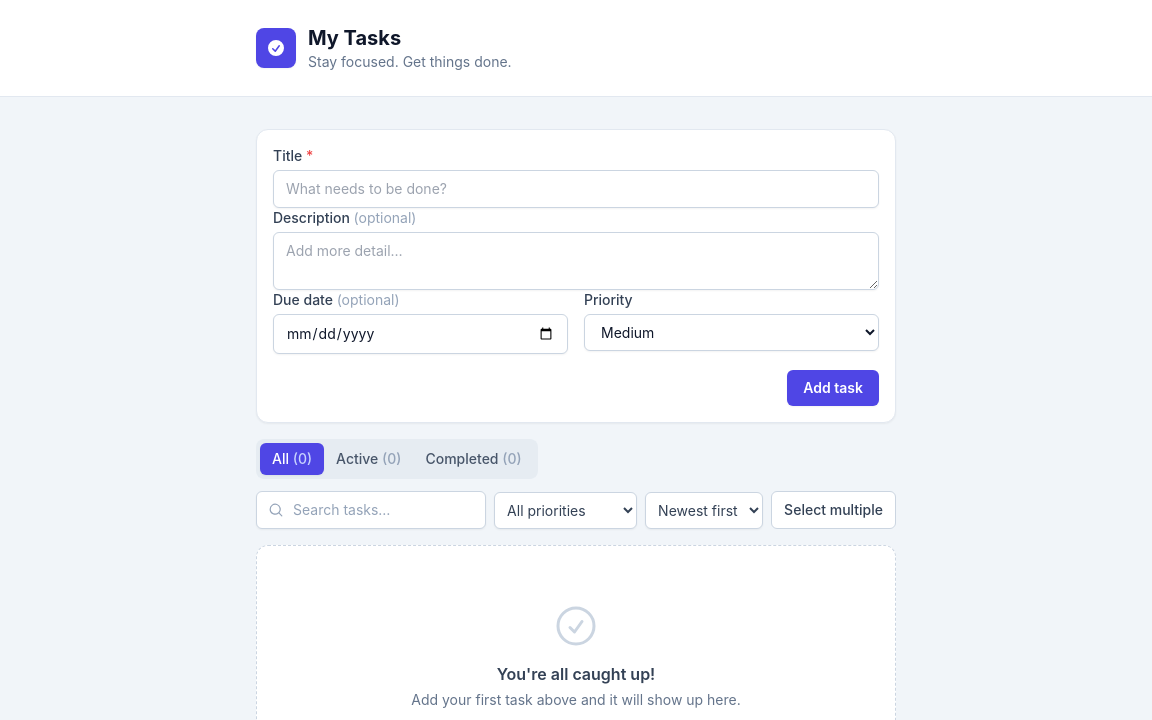
App › adds a task and it appears in the list
This screenshot has width=1152, height=720.
Type "Buy milk" into the field labelled "Title *" at (576, 189), box [273,170,879,208]
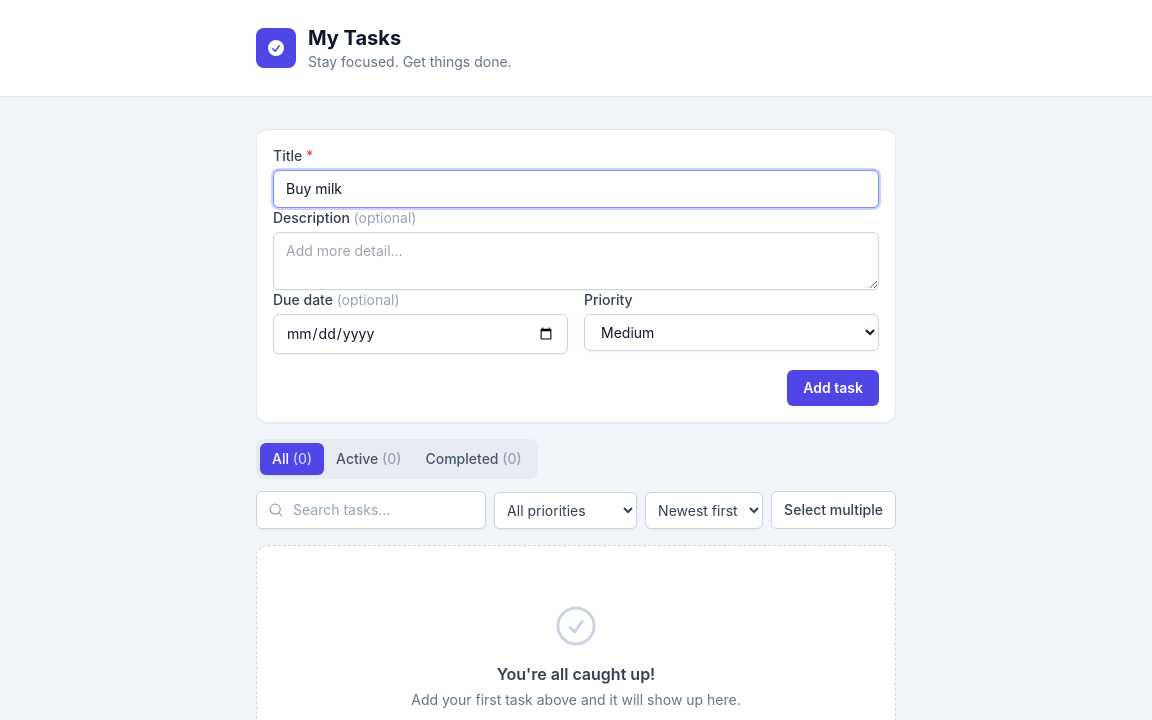
Click the button "Add task" at (833, 388), box [787,370,879,406]
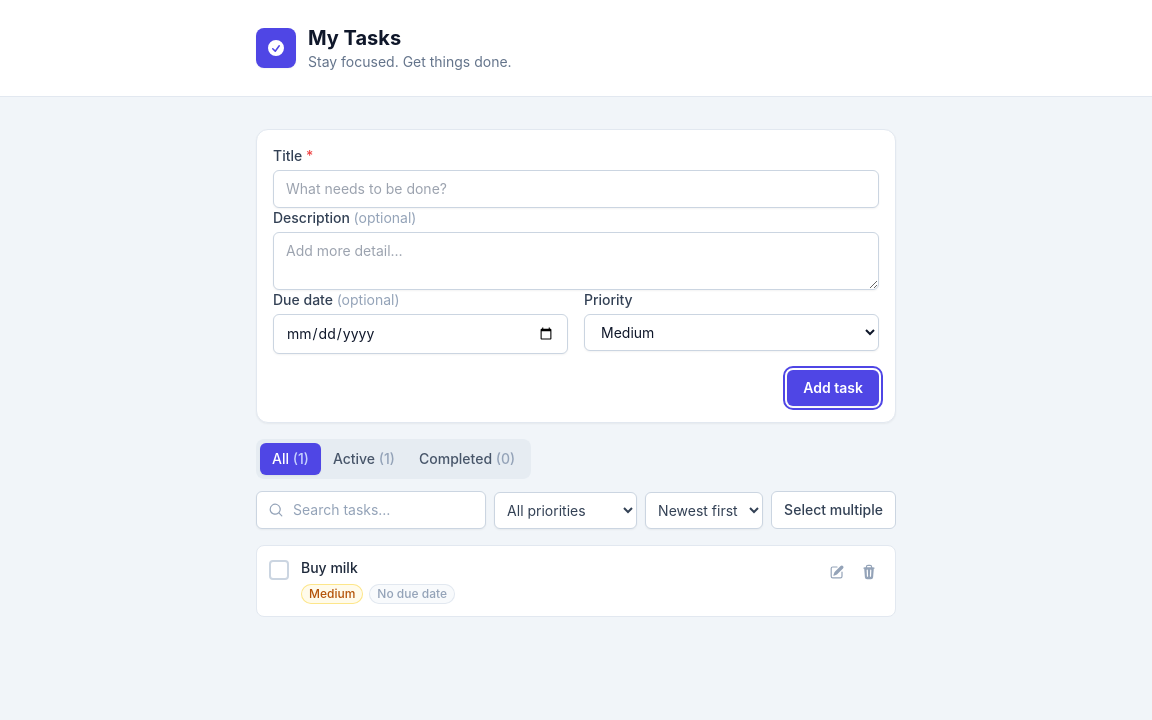
Check: the text "Buy milk" is shown, box [301,559,358,576]
Check: the number of list items is 1, box [256,545,896,617]
